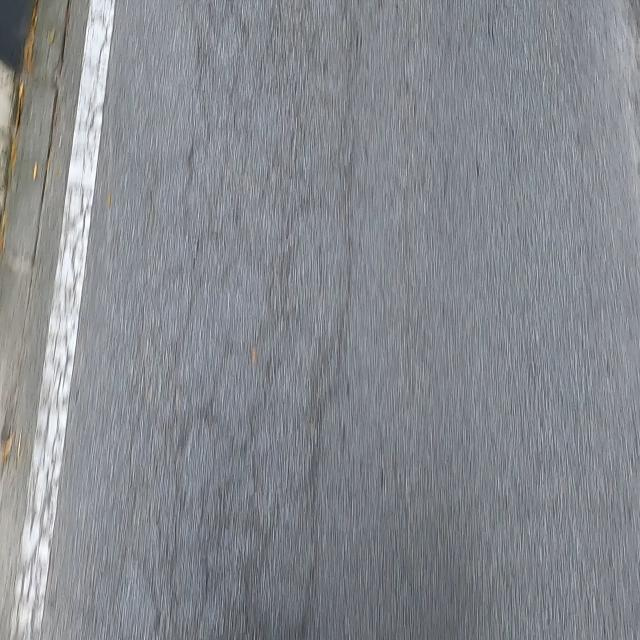Retak-Buaya: (140, 0, 356, 637), (8, 9, 113, 640)
